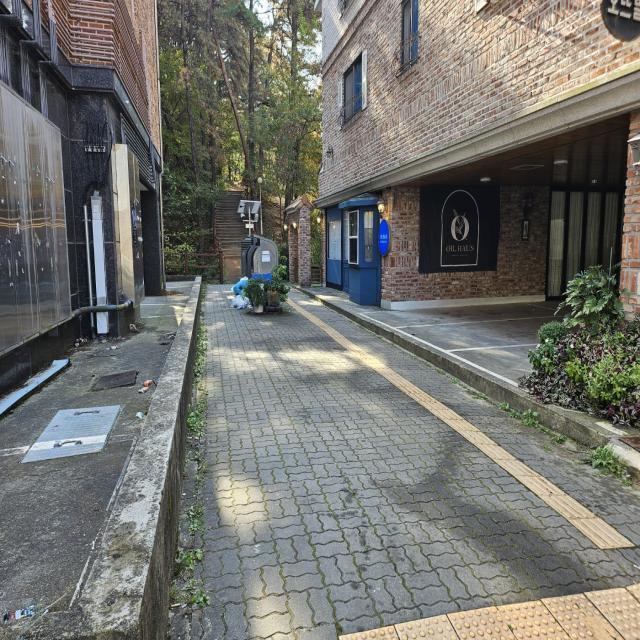CleanNet: (243, 232, 282, 284)
General Waste: (226, 278, 267, 316)
